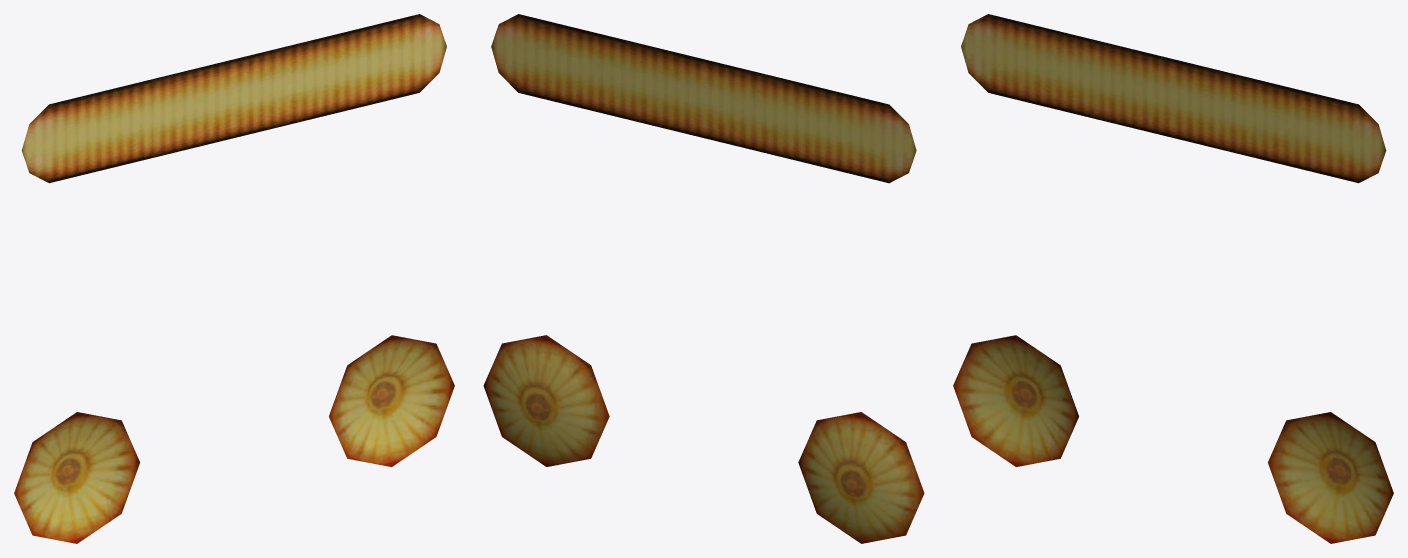
Rendered from kse_firespray_engine_s01_on_l1.fbx.
3 renders of one model, left to right at view 1: azimuth 30°, elevation 25°; view 2: azimuth 150°, elevation 25°; view 3: azimuth 330°, elevation 25°, orthographic.
Parts seen in each view (by area): view 1: mesh_node; view 2: mesh_node; view 3: mesh_node.
Boxes of the visible parts, <box> form: mesh_node: <box>14,14,454,543</box>; mesh_node: <box>483,14,924,543</box>; mesh_node: <box>953,14,1393,543</box>.
Size of the model in its own units: 5.88 by 5.69 by 0.244.
1 material, 1 textured.
